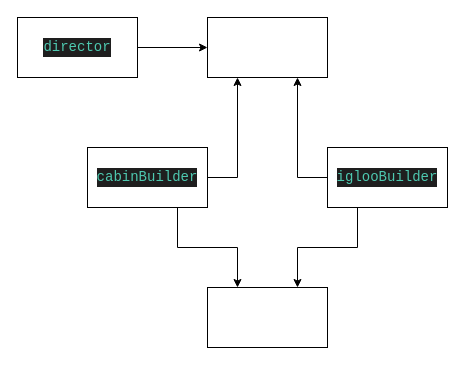
The diagram is 465 pixels wide and 365 high, and some of its shapes have lost their labels. Here are the shapes that lost their labels. From the top down, the box of each, then its label:
(206, 16, 328, 78): ibuilder
(206, 286, 328, 348): house
